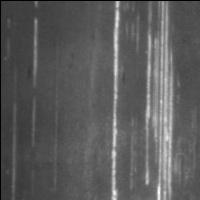scratches: (144, 1, 177, 200), (106, 1, 126, 200), (7, 101, 21, 200), (29, 2, 41, 94)
